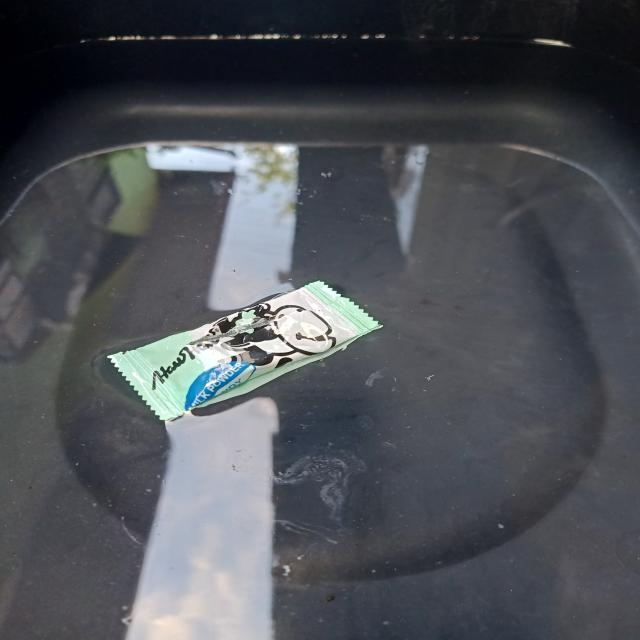Plastic Wrapper: (105, 274, 386, 431)
